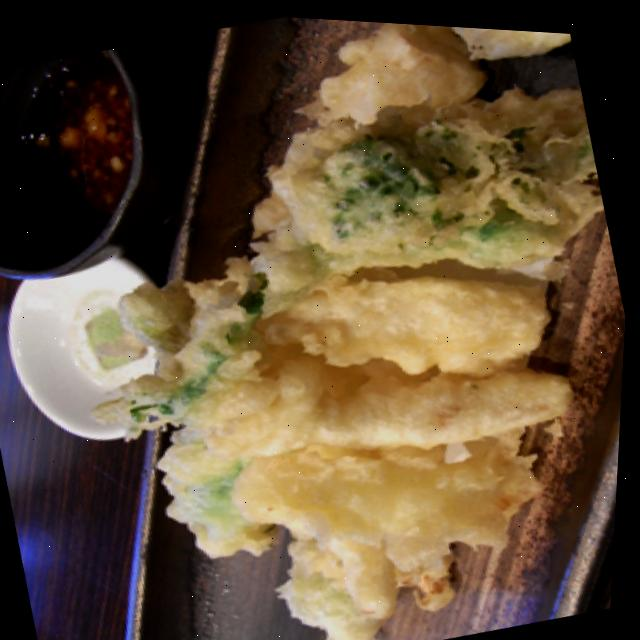蔬菜料理: (27, 2, 640, 640)
